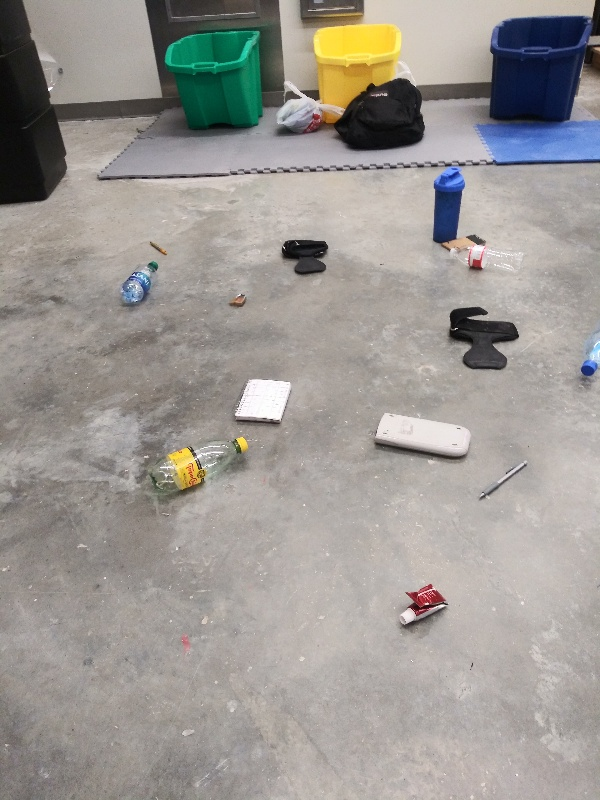bottle: (145, 433, 253, 498), (444, 244, 529, 278), (116, 257, 161, 306), (577, 325, 600, 386)
